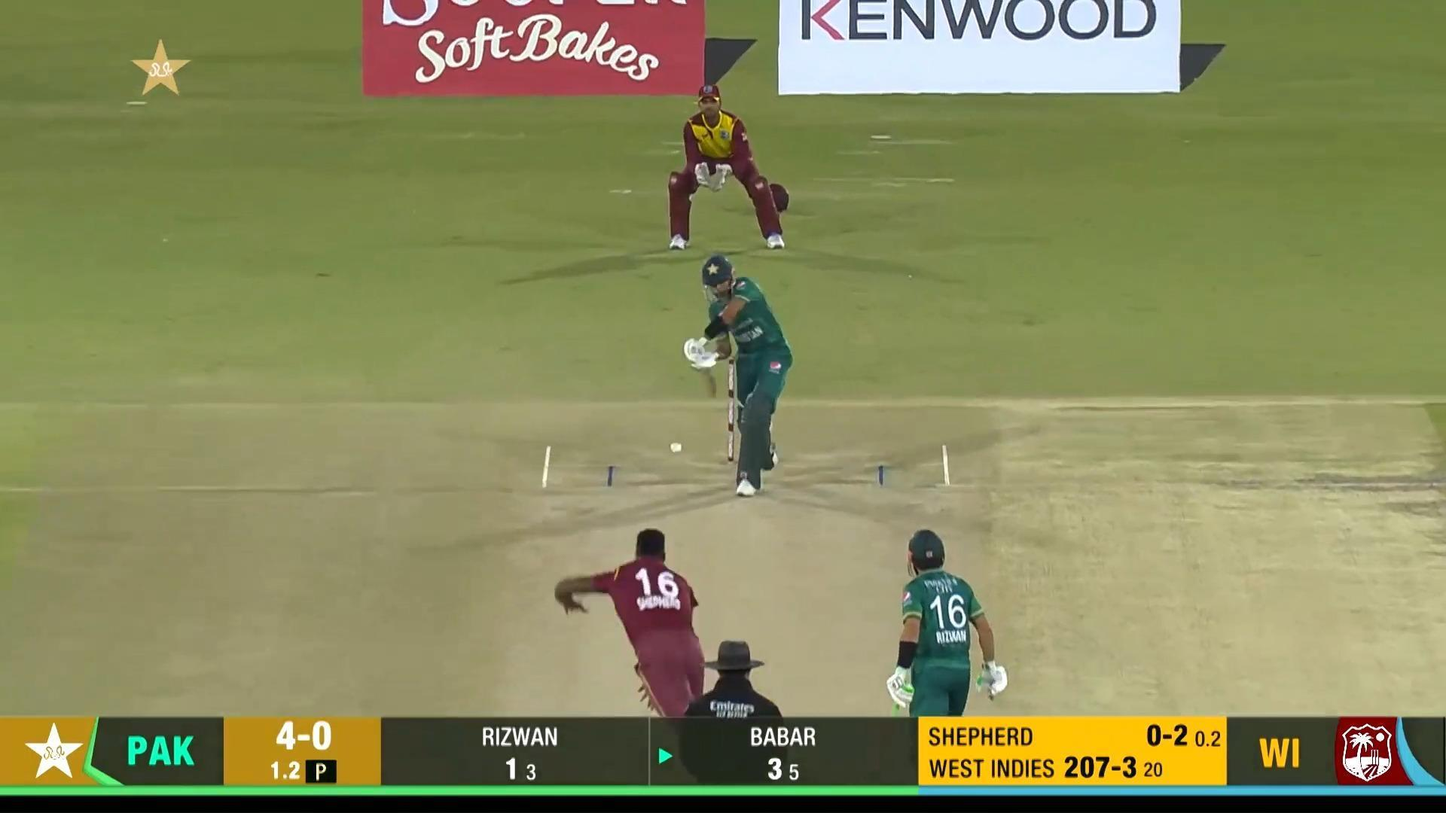BM 1: (683, 256, 793, 498)
BO: (556, 527, 707, 717)
